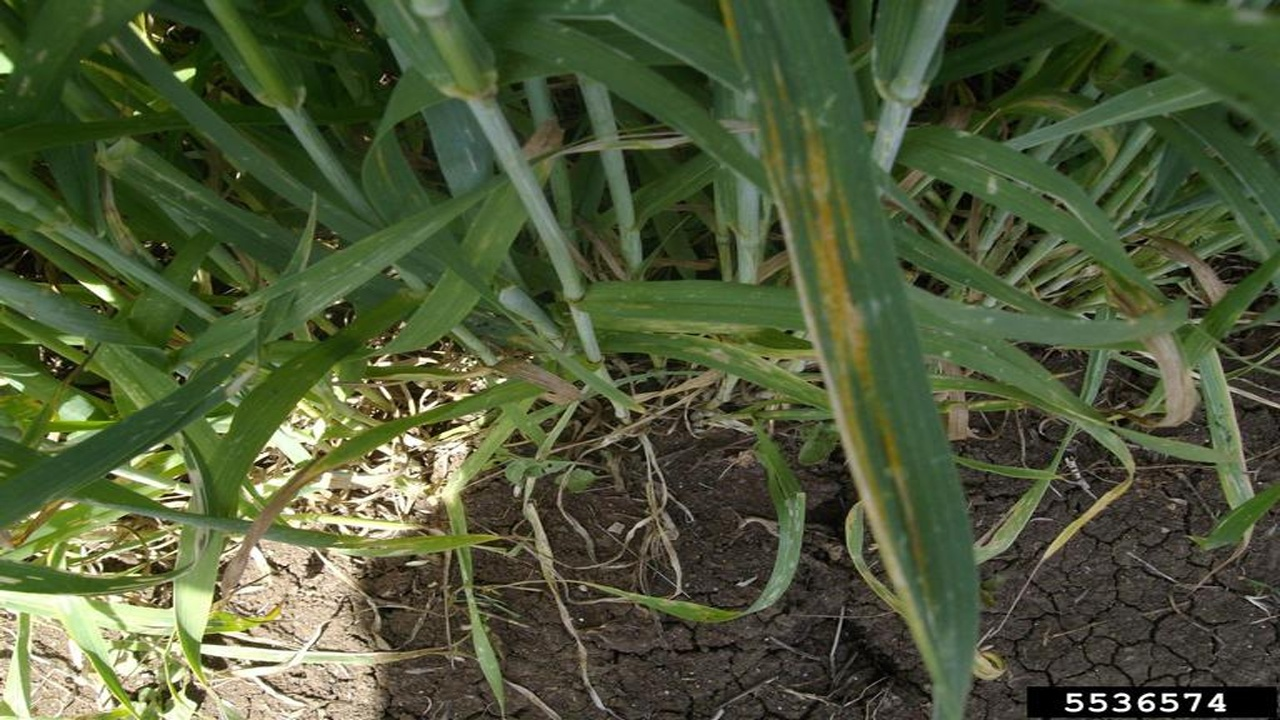stripe_rust: (719, 2, 986, 720)
